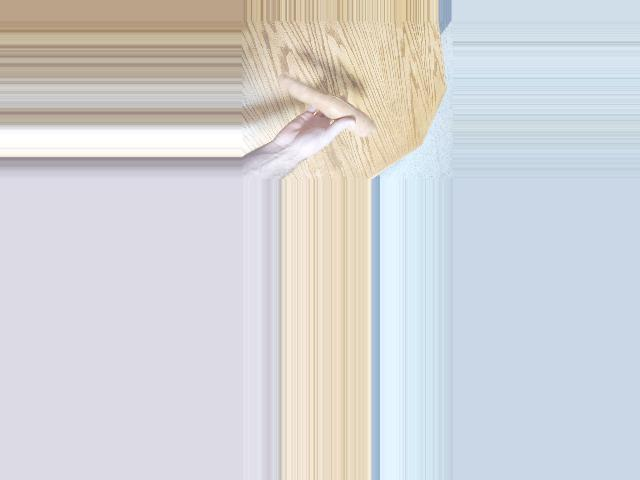sweet_potato: (279, 81, 386, 133)
